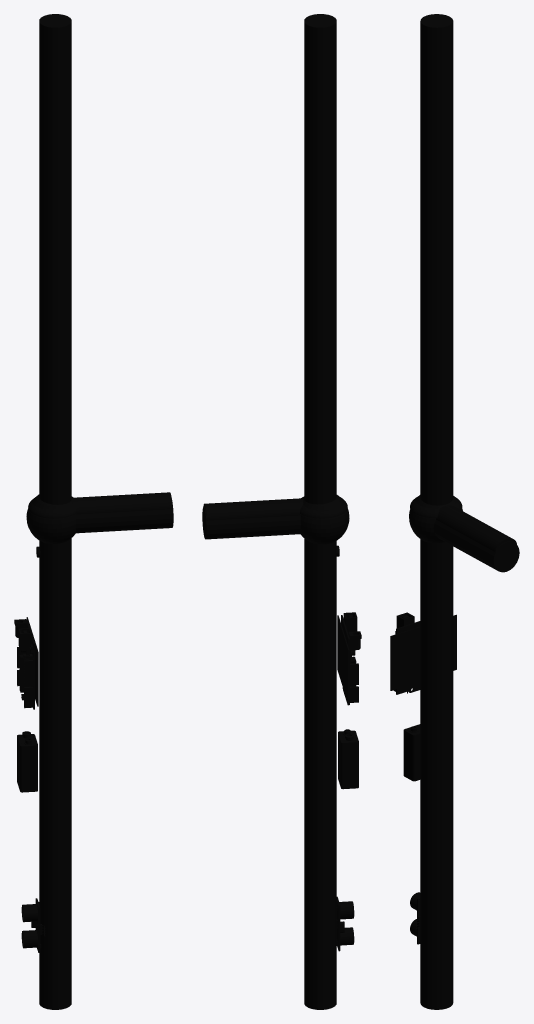
The model's file is black_stick.glb.
3 views of the same model, side by side, from view 1: azimuth 30°, elevation 25°; view 2: azimuth 210°, elevation 25°; view 3: azimuth 330°, elevation 25° (orthographic).
Visible parts, largest first — view 1: node_id3; view 2: node_id3; view 3: node_id3.
Part boxes in pixels (x1,y1,x2,y2): node_id3: (14,14,173,1009); node_id3: (202,14,361,1009); node_id3: (390,14,519,1009).
Bounding box in the file's own units: 0.0745 × 0.512 × 0.0519.
1 material, 1 textured.
